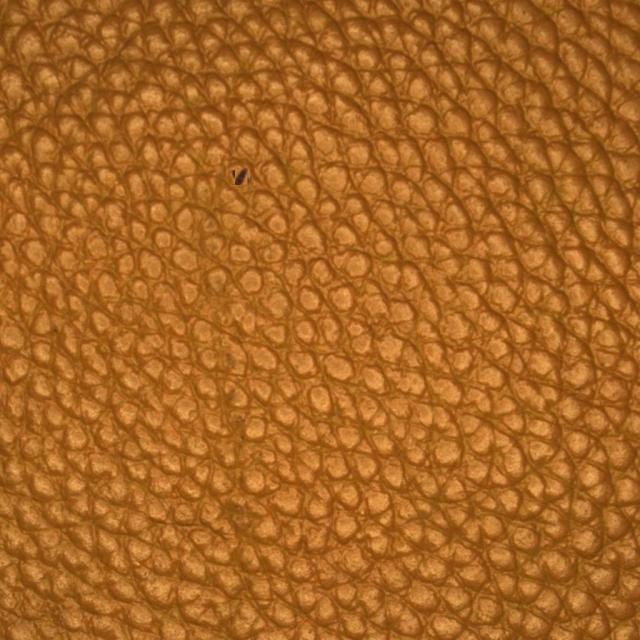pinhole: (125, 120, 358, 240)
